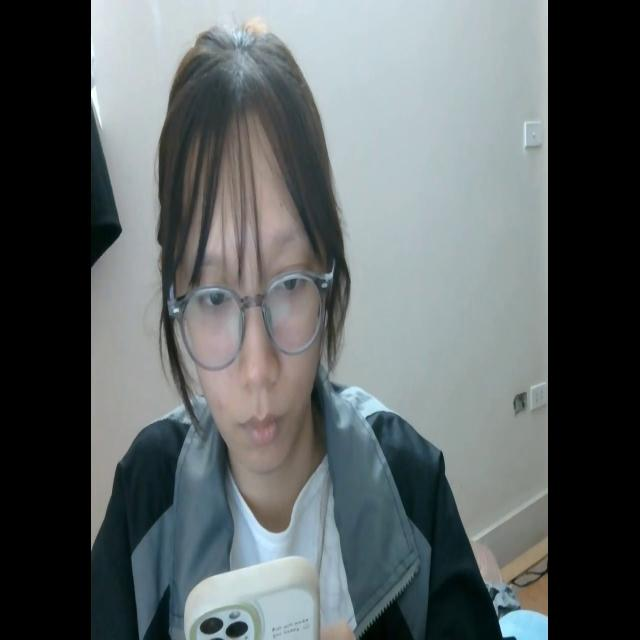phone: (185, 553, 319, 640)
student: (93, 10, 500, 640)
